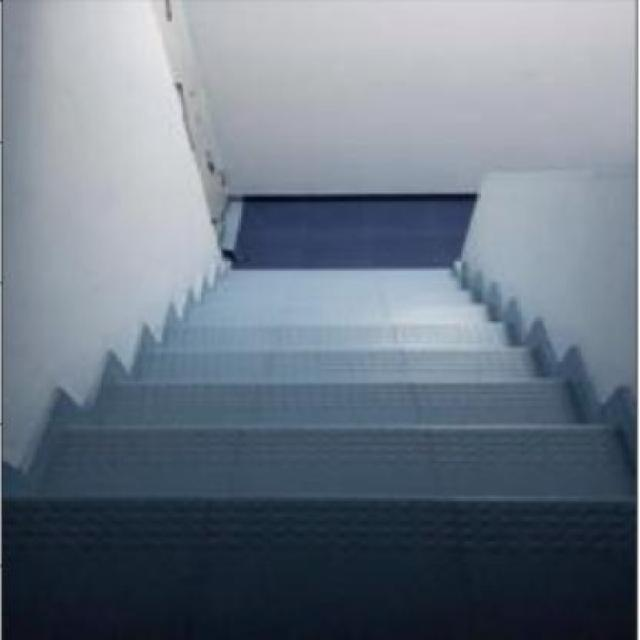stair: (33, 246, 630, 522)
